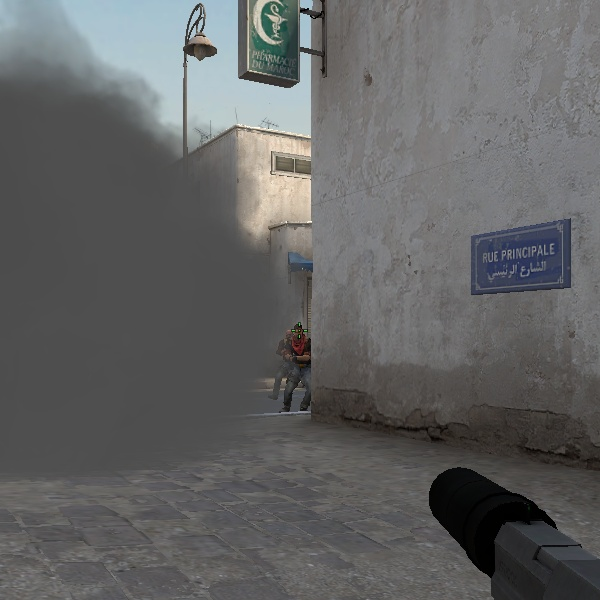t_body: (269, 318, 320, 415)
